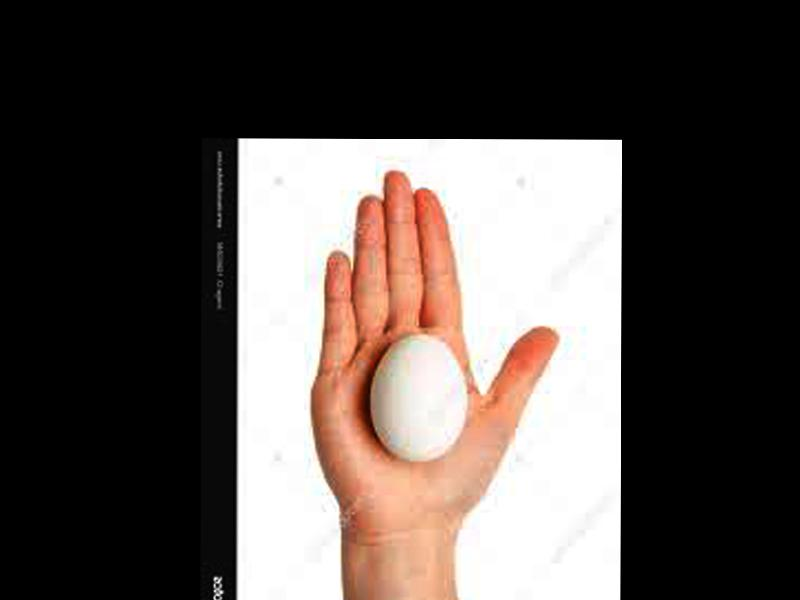Eggs: (374, 333, 464, 461)
